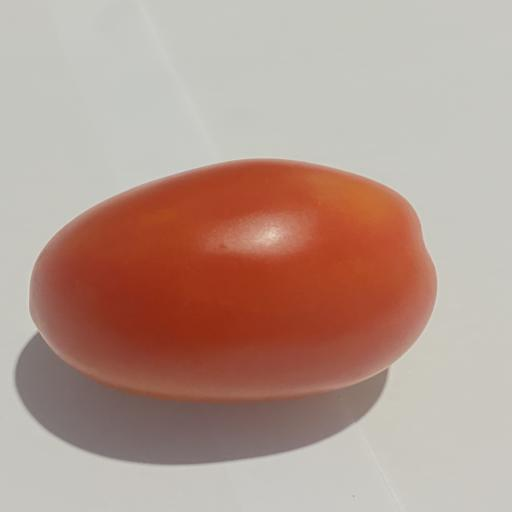ripe: (30, 159, 436, 402)
